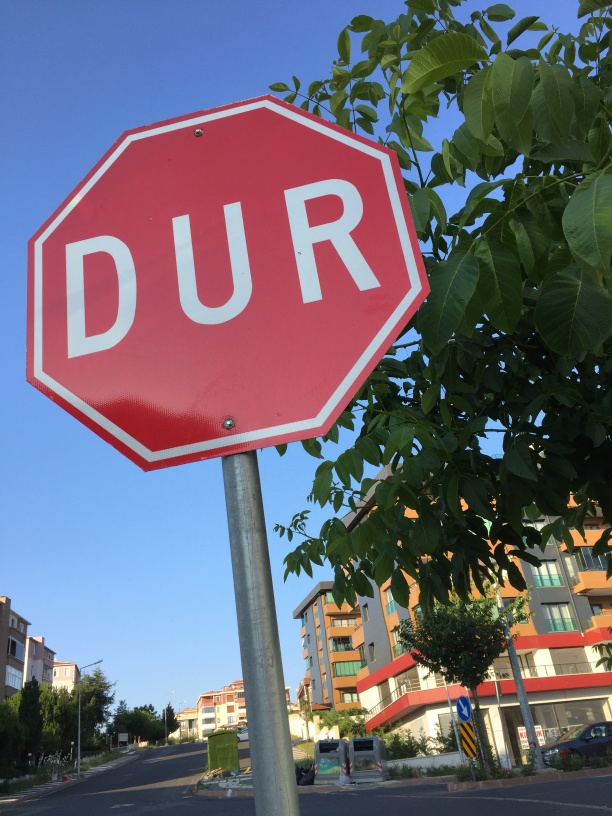arac_dur_isareti: (10, 99, 458, 577)
